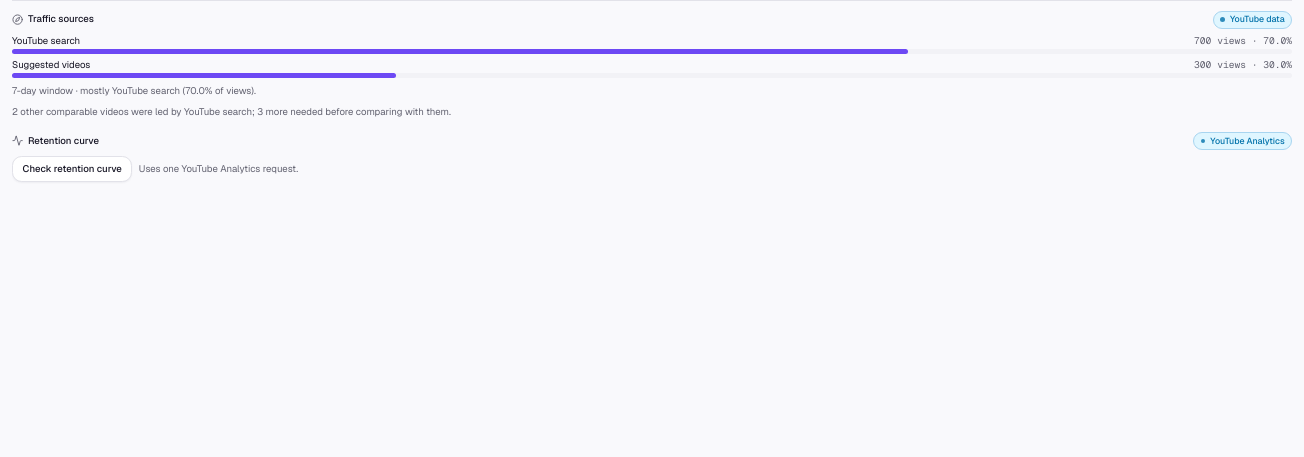
Test: LinkedVideoLearning › draws the curve and lists observations when YouTube returns one
Click the button "Check retention curve".
click(72, 169)  # box [12,156,132,182]
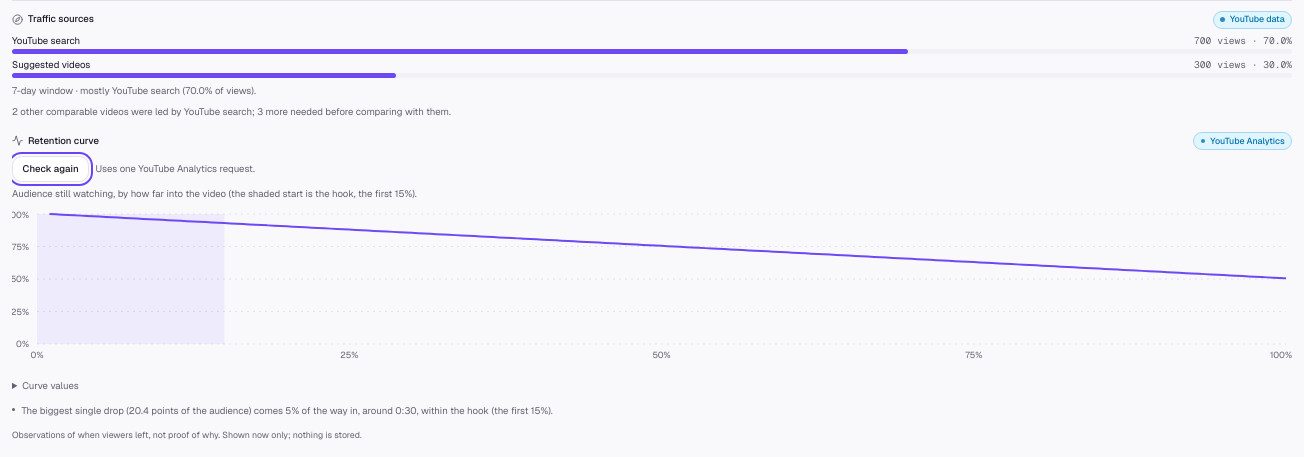
expect the element with test id "retention-curve" is shown: met, box [12,188,1292,393]
expect the list named "Observations" shows "within the hook": met, box [22,404,553,417]
expect the text "not proof of why" is shown: met, box [12,429,220,441]
